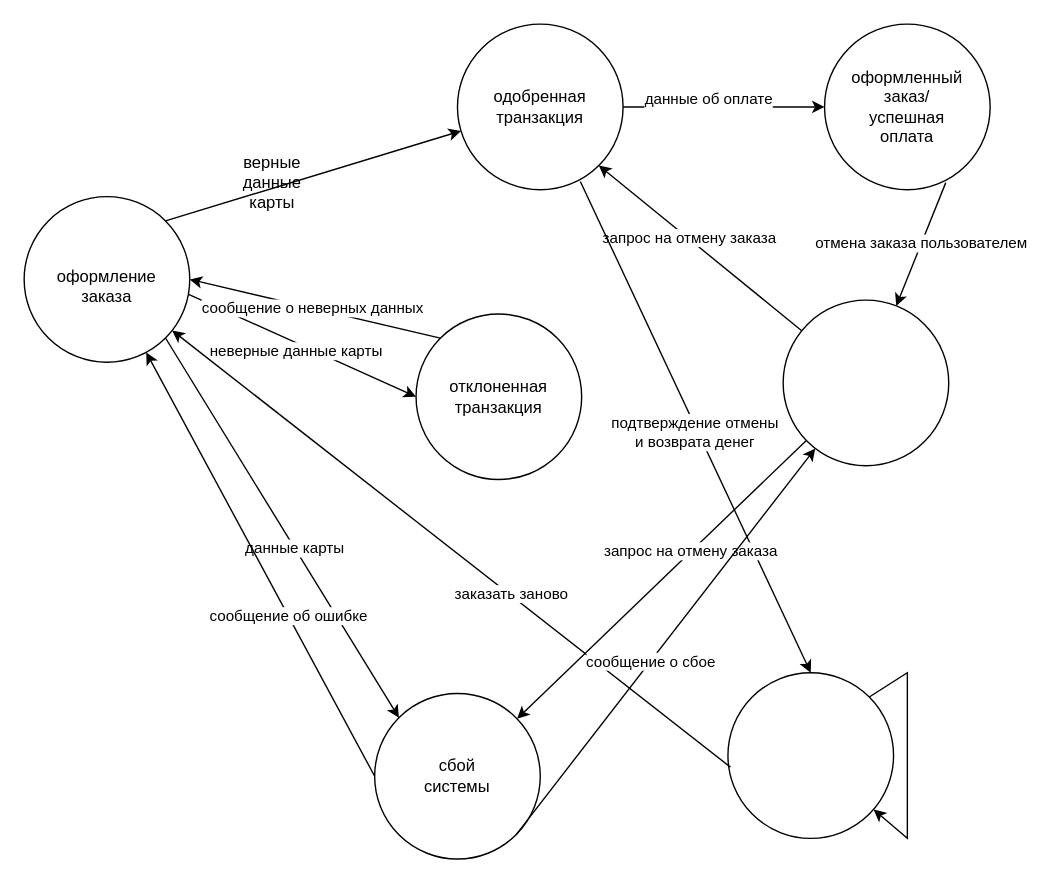
This 1052x883 diagram has some shape labels left out. Each missing label, with the centre of its shape:
"отмена заказа/ возврат денег" belongs at (865,382).
"отмененный заказ" belongs at (810,754).
